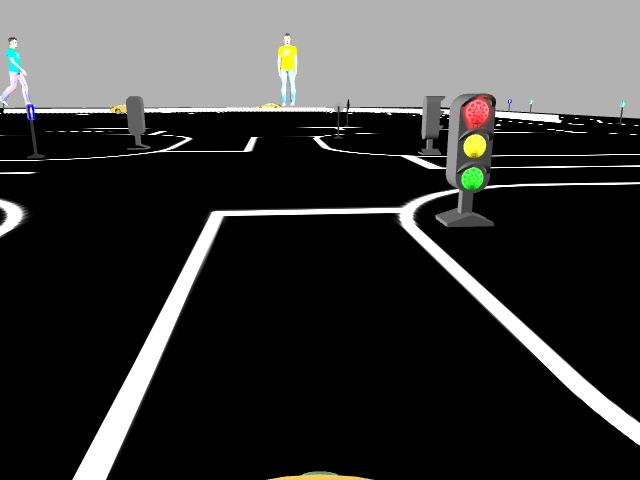TrafficLight: (448, 91, 499, 194)
